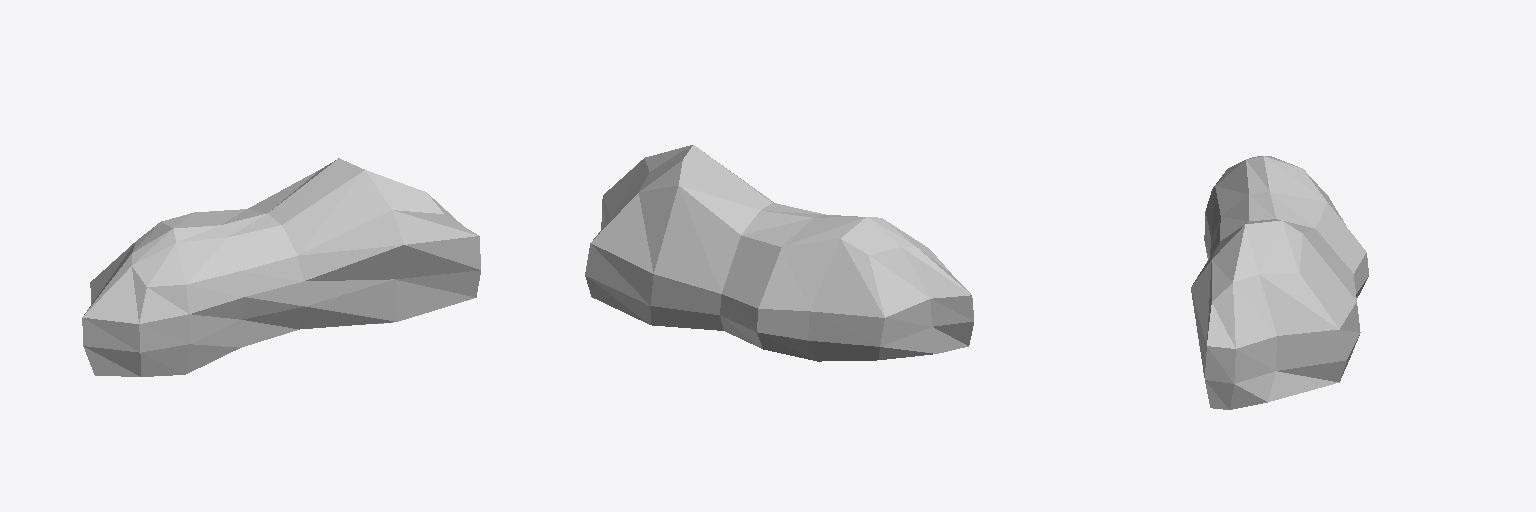
File: Bowlder1.obj
3 views of the same model, side by side, from view 1: azimuth 30°, elevation 25°; view 2: azimuth 150°, elevation 25°; view 3: azimuth 270°, elevation 25° (orthographic).
Parts seen in each view (by area): view 1: Bowlder1; view 2: Bowlder1; view 3: Bowlder1.
Part boxes in pixels (x1,y1,x2,y2): Bowlder1: (82,158,480,376); Bowlder1: (585,145,973,361); Bowlder1: (1191,156,1368,409).
Bounding box in the file's own units: 5.76 × 2.22 × 2.35.